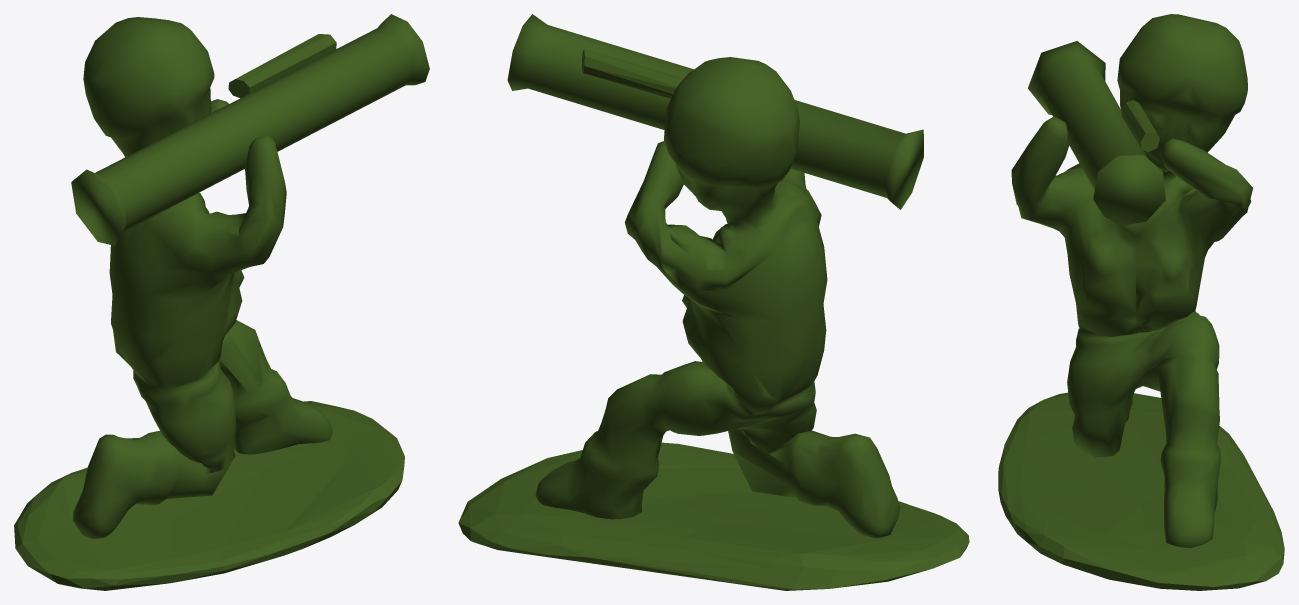
File: BazookaTower.fbx
3 views of the same model, side by side, from view 1: azimuth 30°, elevation 25°; view 2: azimuth 150°, elevation 25°; view 3: azimuth 270°, elevation 25° (orthographic). The views are drawn at different scales.
Visible parts, largest first — view 1: SoldierTowerBazzooka; view 2: SoldierTowerBazzooka; view 3: SoldierTowerBazzooka.
Part boxes in pixels (bbox=[...]): SoldierTowerBazzooka: bbox=[14, 14, 429, 590]; SoldierTowerBazzooka: bbox=[458, 14, 969, 590]; SoldierTowerBazzooka: bbox=[998, 14, 1284, 590].
Bounding box in the file's own units: 269 × 304 × 167.
